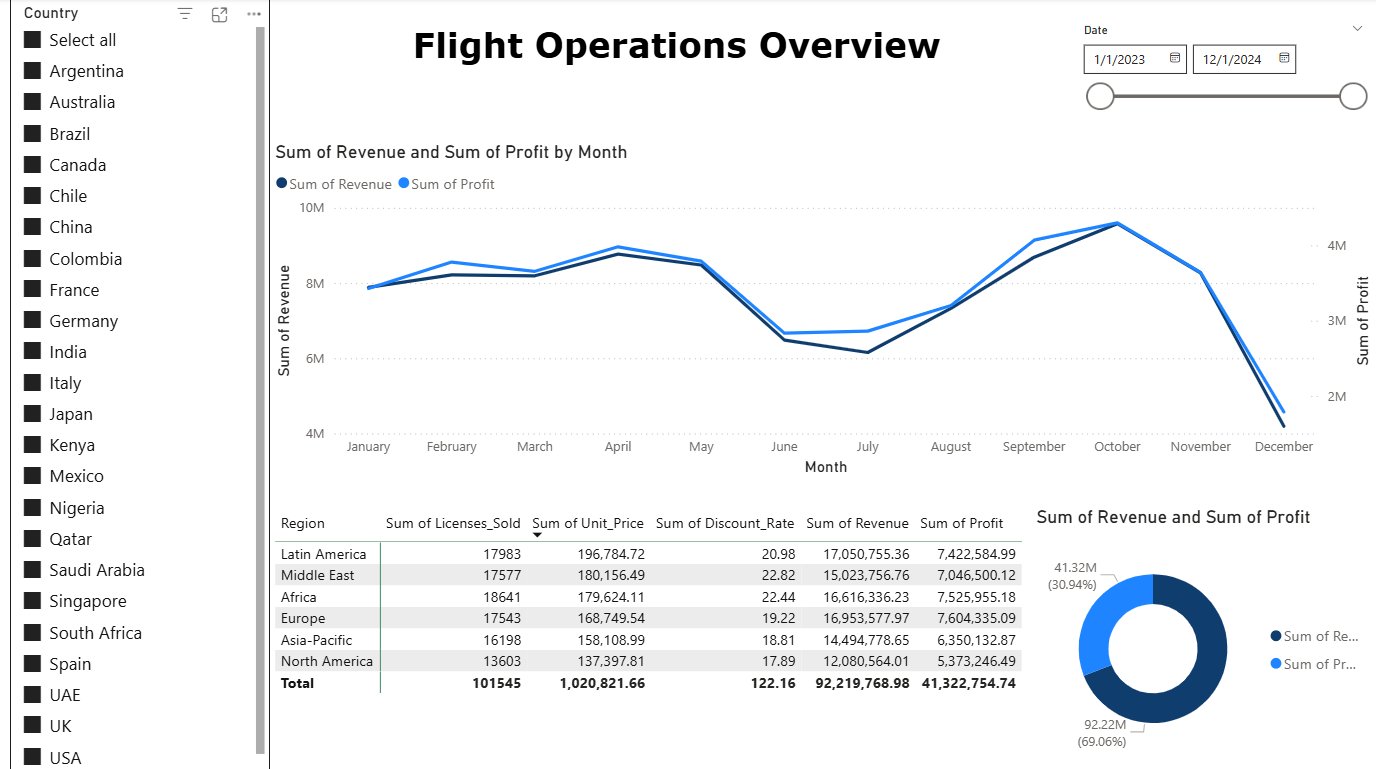

The dashboard page shown, as its layout file describes it:
{"tool":"powerbi","page":{"name":"Page 1","canvas":[1280,720],"ordinal":0},"visuals":[{"type":"slicer","fields":{"Values":["Sheet1.Country"]},"box":[9.6,0,241.5,720.4],"z":0},{"type":"slicer","fields":{"Values":["Sheet1.Date"]},"box":[995.4,18.6,284.9,103.5],"z":1000},{"type":"lineChart","fields":{"Category":["Sheet1.Date.Variation.Date Hierarchy.Month","Sheet1.Date.Variation.Date Hierarchy.Day"],"Y":["Sum(Sheet1.Revenue)"],"Y2":["Sum(Sheet1.Profit)"]},"box":[251.2,132.6,1029.1,316.3],"z":2000},{"type":"pivotTable","fields":{"Rows":["Sheet1.Region"],"Values":["Sum(Sheet1.Licenses_Sold)","Sum(Sheet1.Unit_Price)","Sum(Sheet1.Discount_Rate)","Sum(Sheet1.Revenue)","Sum(Sheet1.Profit)"]},"box":[251.2,472.1,708.1,247.7],"z":3000},{"type":"donutChart","fields":{"Y":["Sum(Sheet1.Revenue)","Sum(Sheet1.Profit)"]},"box":[959.3,472.1,320.9,247.7],"z":4000},{"type":"textbox","box":[264,18.6,731.4,103.5],"z":4001}]}

Visuals, with their boxes on the page's 1280x720 design canvas (x1, y1, x2, y2). These are canvas units, not pixel positions in the 1376x769 screenshot, which may show the page scaled, cropped or inside an application window:
slicer - Sheet1.Country: (10,0,251,720)
slicer - Sheet1.Date: (995,19,1280,122)
lineChart - Sheet1.Date.Variation.Date Hierarchy.Month x Sheet1.Date.Variation.Date Hierarchy.Day: (251,133,1280,449)
pivotTable - Sheet1.Region x Sum(Sheet1.Licenses_Sold): (251,472,959,720)
donutChart - Sum(Sheet1.Revenue) x Sum(Sheet1.Profit): (959,472,1280,720)
textbox: (264,19,995,122)
